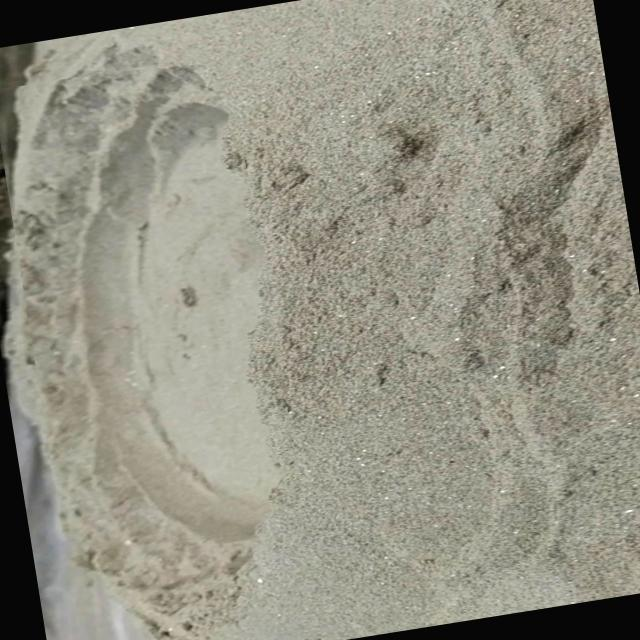C40: (18, 69, 278, 537)
